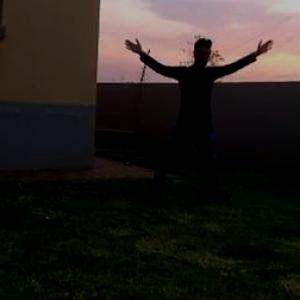takeoff: (124, 34, 277, 202)
